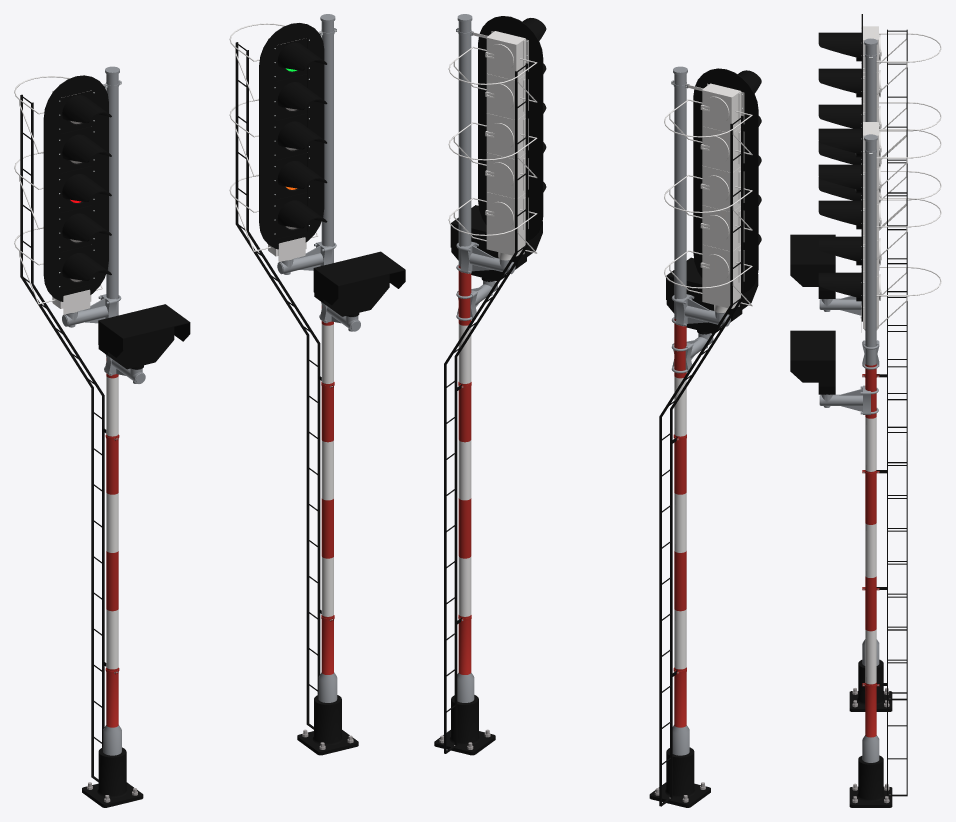
File: light_signals.glb
3 renders of one model, left to right at view 1: azimuth 30°, elevation 25°; view 2: azimuth 150°, elevation 25°; view 3: azimuth 270°, elevation 25°, orthographic. The views are drawn at different scales.
Parts seen in each view (by area): view 1: Object_5; view 2: Object_5; view 3: Object_5.
Part boxes in pixels (x1,y1,x2,y2): Object_5: (14,14,405,807); Object_5: (434,14,761,807); Object_5: (790,14,941,807).
Size of the model in its own units: 2.99 by 6.5 by 1.33.
Materials: 5 (5 with a texture image).
